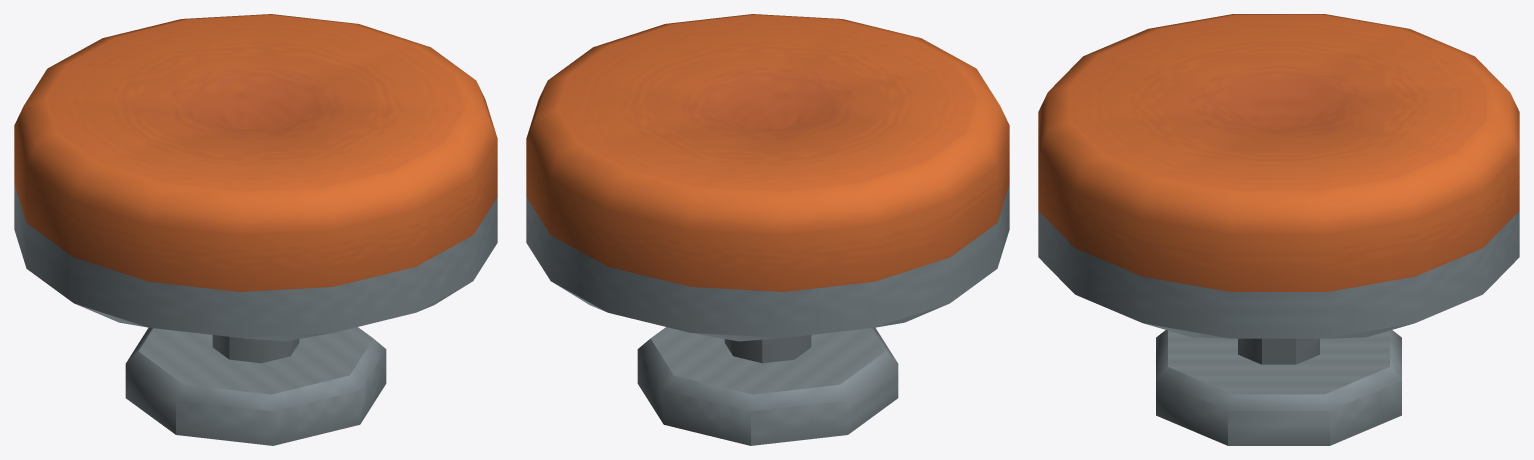
File: chair_stool.gltf
3 renders of one model, left to right at view 1: azimuth 30°, elevation 25°; view 2: azimuth 150°, elevation 25°; view 3: azimuth 270°, elevation 25°, orthographic.
Parts seen in each view (by area): view 1: chair_stool; view 2: chair_stool; view 3: chair_stool.
Boxes of the visible parts, <box> form: chair_stool: <box>14,14,497,445</box>; chair_stool: <box>526,14,1009,445</box>; chair_stool: <box>1038,14,1519,445</box>.
Size of the model in its own units: 0.75 by 0.5 by 0.75.
1 material, 1 textured.
